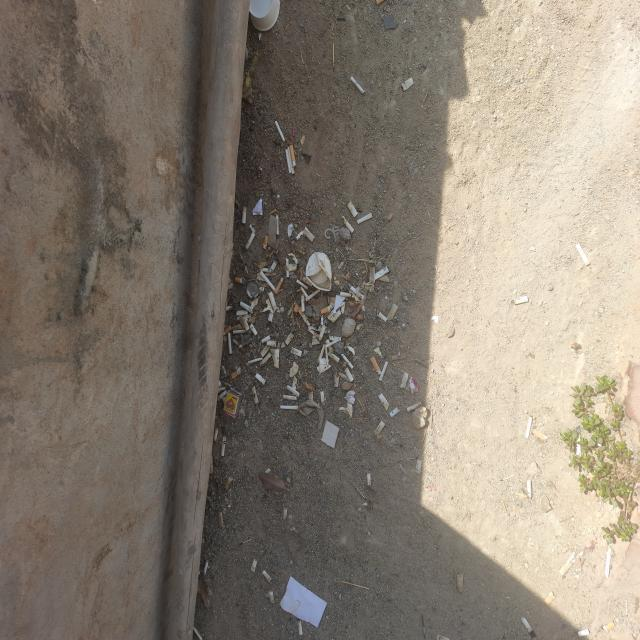Cig_bud: (560, 552, 575, 577), (260, 270, 276, 290), (576, 243, 590, 265), (245, 225, 256, 250), (285, 148, 295, 173), (604, 547, 612, 578), (350, 77, 365, 93), (341, 215, 354, 233), (532, 428, 548, 442), (275, 120, 285, 142), (379, 393, 390, 412), (370, 357, 381, 375), (341, 353, 354, 368), (350, 287, 365, 300), (302, 227, 315, 242), (305, 290, 321, 302), (375, 267, 389, 280), (401, 78, 414, 92), (269, 292, 278, 312), (379, 362, 388, 382), (325, 337, 341, 348), (521, 617, 532, 633), (388, 303, 398, 320), (321, 302, 334, 315), (286, 385, 300, 397), (358, 213, 372, 225), (374, 422, 385, 437), (406, 402, 422, 412), (240, 302, 254, 313), (289, 145, 296, 167), (218, 388, 228, 403), (348, 202, 358, 217), (525, 417, 532, 438), (251, 387, 259, 405), (400, 372, 409, 388), (300, 275, 312, 287), (230, 367, 241, 380), (260, 352, 271, 365), (330, 310, 341, 323), (515, 295, 529, 305), (241, 317, 250, 332), (275, 278, 284, 293), (192, 627, 202, 640), (296, 280, 309, 290), (602, 622, 615, 632), (545, 592, 555, 605), (345, 368, 354, 382), (329, 352, 340, 363), (255, 373, 265, 385), (274, 348, 280, 368), (290, 347, 302, 357), (324, 345, 330, 365), (526, 478, 532, 498), (319, 325, 326, 342), (415, 458, 422, 475), (248, 357, 262, 365), (262, 570, 271, 582), (285, 333, 294, 345), (578, 628, 590, 637), (262, 235, 269, 250), (221, 437, 226, 457), (378, 312, 388, 322), (250, 560, 258, 572), (250, 323, 258, 335), (270, 260, 278, 272), (369, 267, 375, 283), (300, 310, 308, 322), (280, 405, 299, 410), (228, 332, 232, 355), (225, 477, 232, 490), (236, 310, 249, 317), (390, 407, 399, 417), (301, 288, 310, 298), (289, 265, 301, 272), (219, 512, 224, 528), (261, 335, 271, 343), (241, 207, 246, 223), (286, 258, 290, 278), (269, 590, 275, 603), (319, 347, 325, 360), (291, 377, 298, 388), (204, 560, 209, 575), (320, 392, 325, 407), (282, 508, 288, 520), (301, 295, 305, 313), (214, 428, 219, 442), (282, 395, 296, 400), (266, 340, 276, 347), (366, 473, 371, 487), (210, 457, 214, 473), (298, 620, 302, 635), (235, 277, 245, 283), (276, 215, 279, 235), (340, 292, 351, 297), (335, 375, 339, 388), (375, 0, 385, 5), (294, 303, 299, 313), (225, 305, 232, 312), (218, 387, 226, 393), (232, 330, 246, 333), (301, 298, 304, 312), (309, 392, 314, 400), (260, 268, 269, 272), (265, 468, 271, 473), (336, 358, 339, 362), (298, 280, 300, 283)
